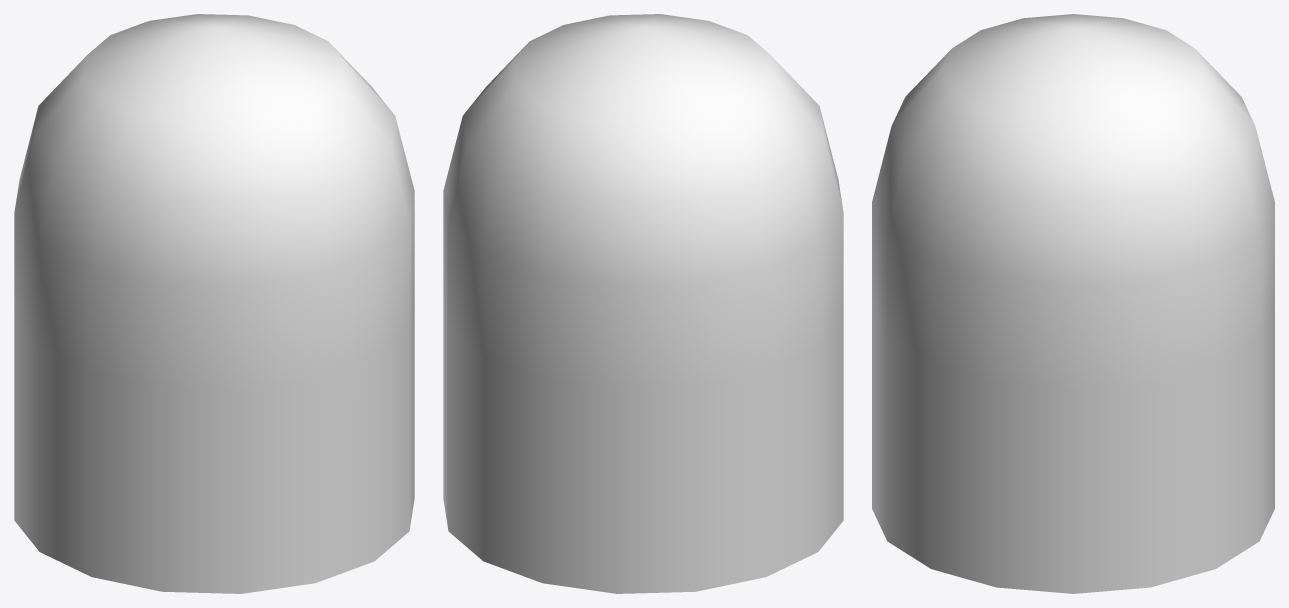
File: Arm_City_D_Sleeve_01_L.fbx
The picture shows the model from 3 angles, left to right: view 1: azimuth 30°, elevation 25°; view 2: azimuth 150°, elevation 25°; view 3: azimuth 270°, elevation 25°; orthographic projection.
Visible parts, largest first — view 1: Arm_City_D_Sleeve_01_L; view 2: Arm_City_D_Sleeve_01_L; view 3: Arm_City_D_Sleeve_01_L.
Boxes of the visible parts, box(x1,y1,x2,y2) form: Arm_City_D_Sleeve_01_L: box(14, 14, 414, 593); Arm_City_D_Sleeve_01_L: box(443, 14, 843, 593); Arm_City_D_Sleeve_01_L: box(872, 14, 1274, 593).
Size of the model in its own units: 48.18 by 63.45 by 48.18.
